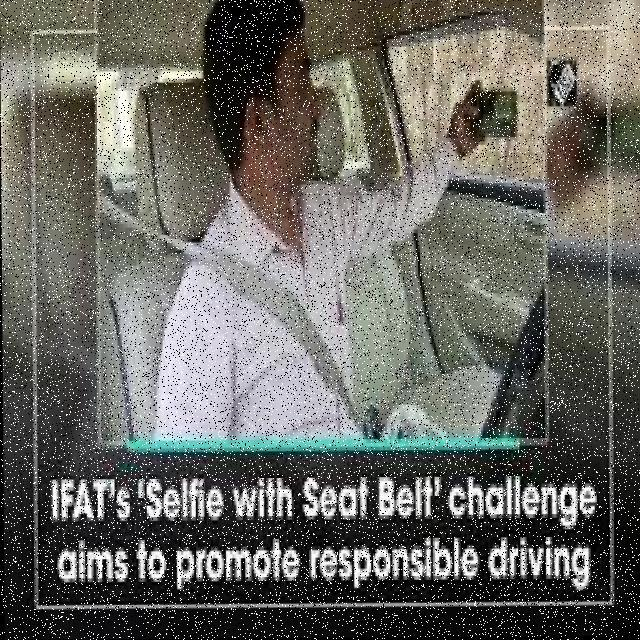seatbelt: (156, 178, 356, 430)
